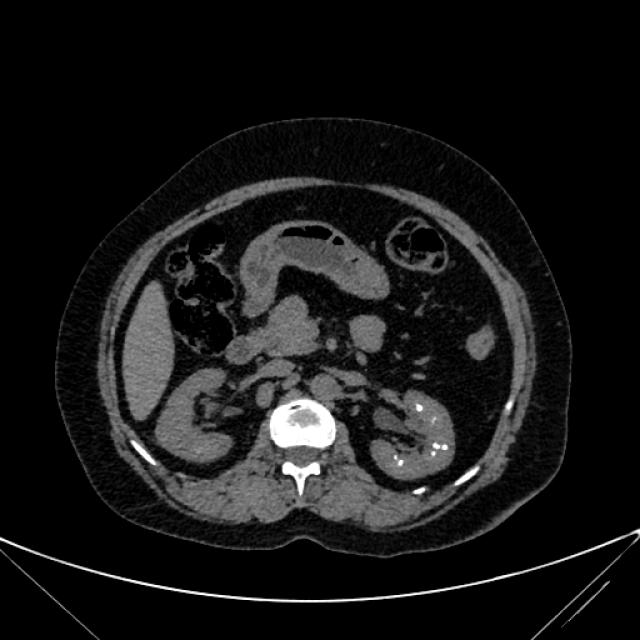kidney: (158, 368, 242, 463), (374, 384, 458, 477)
stone: (431, 439, 440, 450), (441, 442, 451, 450), (416, 403, 424, 412), (398, 458, 406, 466), (391, 454, 398, 460), (430, 452, 437, 457)
